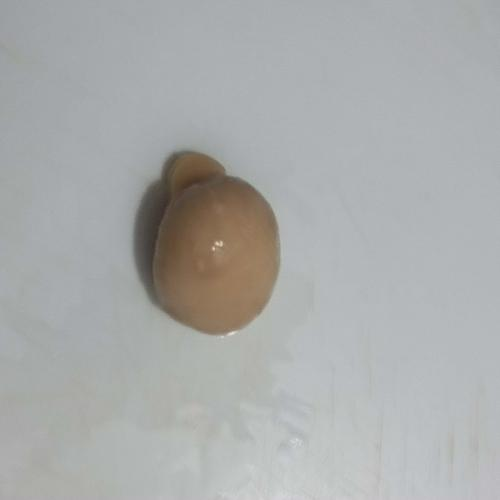Button Mushroom: (138, 148, 295, 343)
